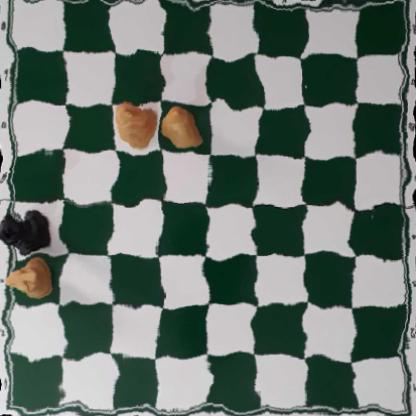black-king: (0, 208, 57, 257)
white-bishop: (163, 104, 204, 150)
white-king: (113, 98, 158, 145)
white-rook: (5, 261, 56, 298)
